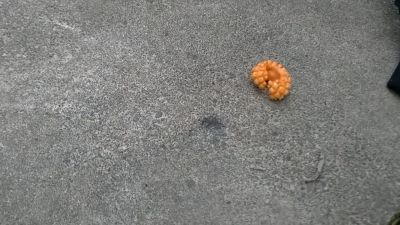eggs: (248, 60, 292, 103)
